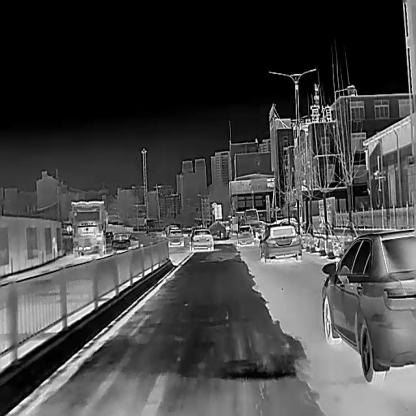car: (320, 228, 416, 383), (259, 224, 302, 262), (191, 228, 215, 251), (110, 231, 131, 252), (168, 226, 184, 247), (237, 224, 254, 243), (242, 208, 260, 224)
truck: (70, 199, 107, 255)
